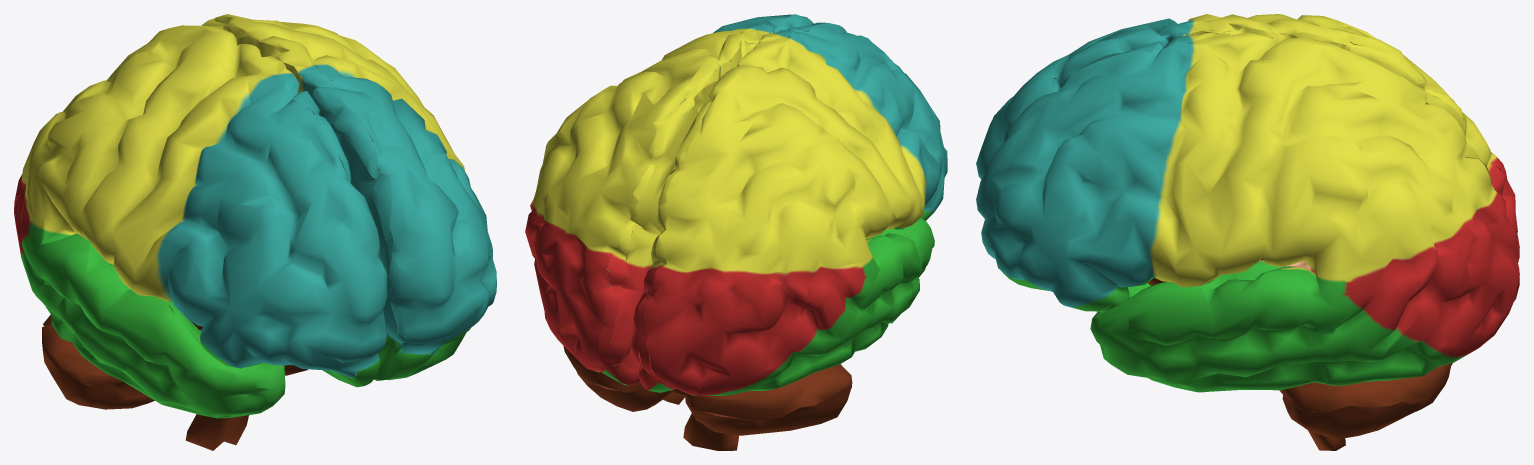
The model's file is brain2.glb.
3 renders of one model, left to right at view 1: azimuth 30°, elevation 25°; view 2: azimuth 150°, elevation 25°; view 3: azimuth 270°, elevation 25°, orthographic. The views are drawn at different scales.
Parts seen in each view (by area): view 1: Brain_Part_06, Brain_Part_04, Brain_Part_02, Brain_Part_05; view 2: Brain_Part_06, Brain_Part_04, Brain_Part_02, Brain_Part_05; view 3: Brain_Part_04, Brain_Part_06, Brain_Part_02, Brain_Part_05.
Part boxes in pixels (<box>): Brain_Part_06: <box>14,25,387,418</box>; Brain_Part_04: <box>201,14,496,380</box>; Brain_Part_02: <box>42,315,154,409</box>; Brain_Part_05: <box>169,305,249,450</box>; Brain_Part_06: <box>631,22,947,395</box>; Brain_Part_04: <box>525,14,813,385</box>; Brain_Part_02: <box>563,346,852,435</box>; Brain_Part_05: <box>683,413,738,450</box>; Brain_Part_04: <box>976,32,1519,392</box>; Brain_Part_06: <box>976,14,1519,262</box>; Brain_Part_02: <box>1280,363,1452,439</box>; Brain_Part_05: <box>1148,258,1345,450</box>.
Size of the model in its own units: 1.06 by 1.12 by 1.32.
1 material, 1 textured.
